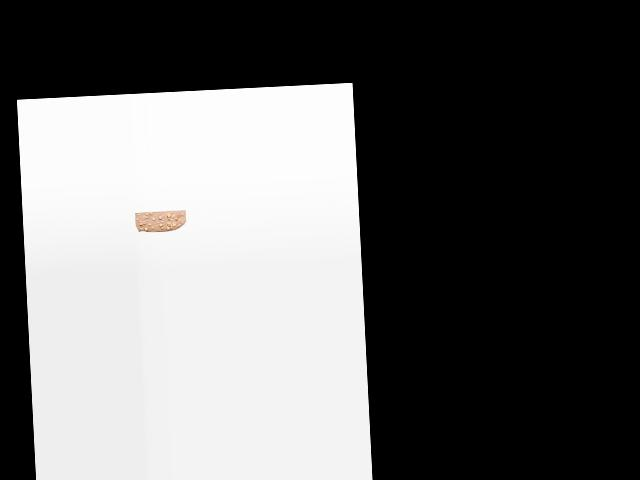chocolate: (135, 207, 186, 236)
